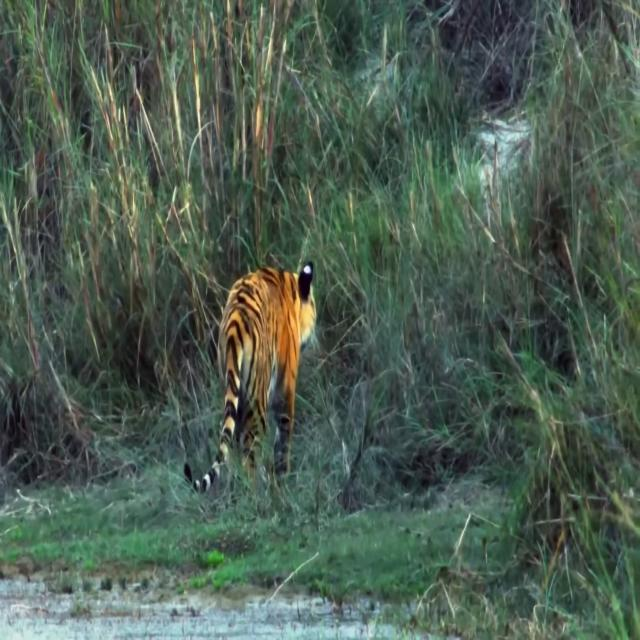tiger: (184, 260, 316, 496)
